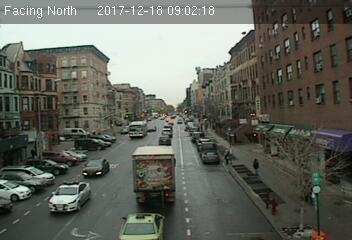bus: (128, 120, 146, 139)
car: (82, 158, 110, 176), (202, 150, 220, 164), (158, 133, 172, 144)
pedestrian: (252, 155, 262, 179)
police: (45, 179, 93, 214)
truck: (131, 145, 175, 203)
